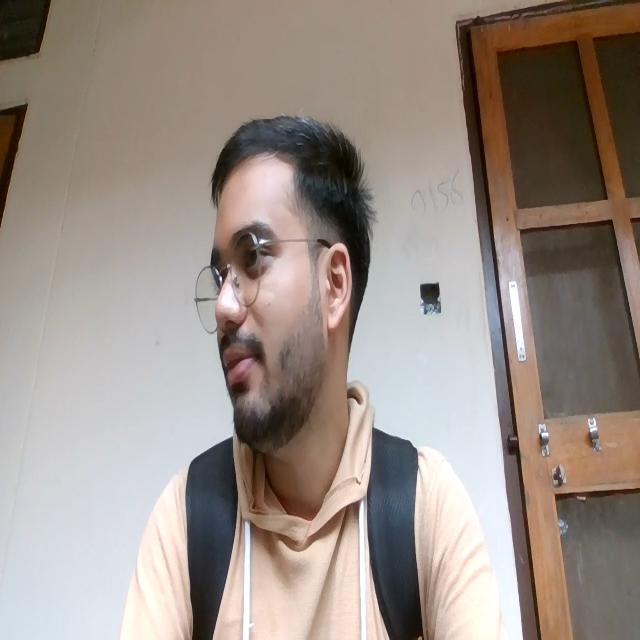awake: (186, 230, 296, 415)
